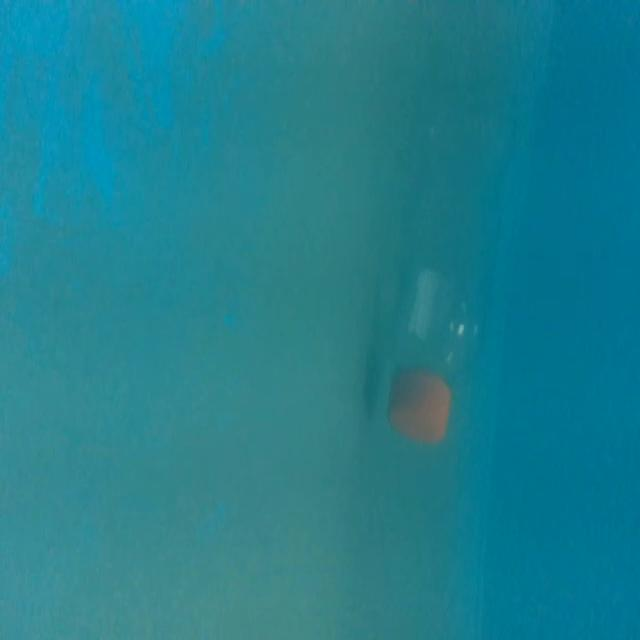plastic bottle: (376, 56, 548, 460)
